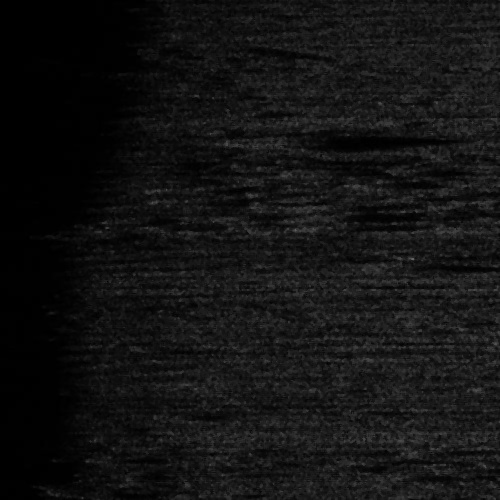object: (200, 131, 305, 146), (368, 263, 441, 270), (286, 203, 359, 208), (491, 415, 500, 420)
shadow: (253, 131, 442, 146), (405, 263, 500, 270), (323, 203, 380, 208)
